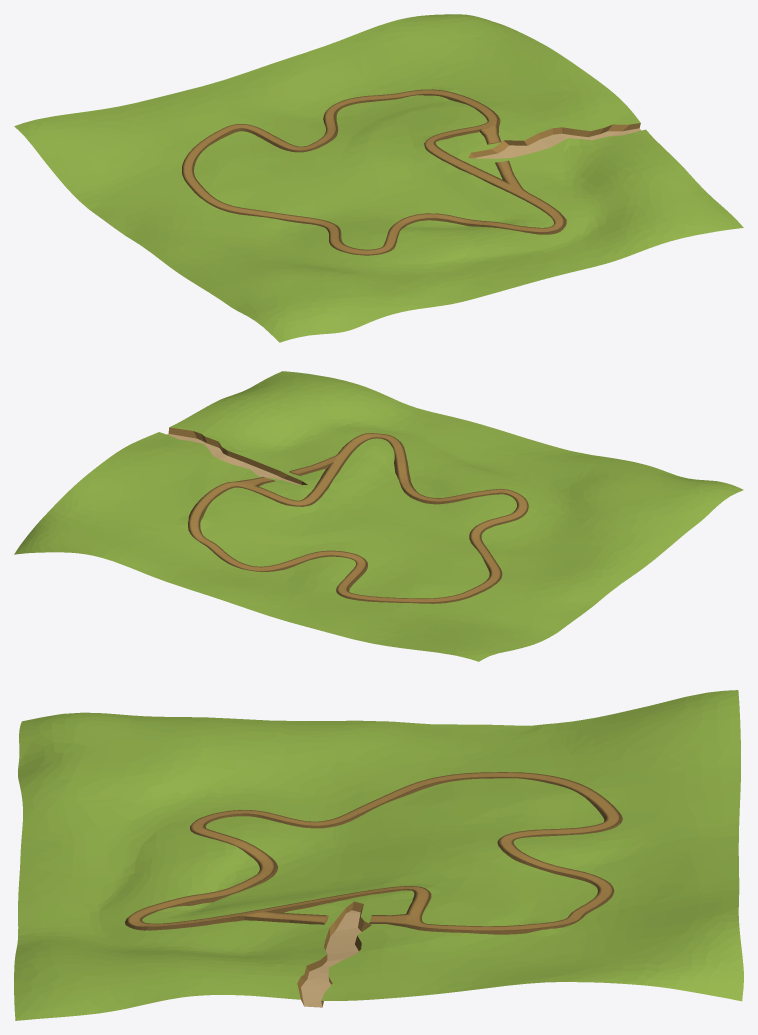
Rendered from terrain w river.fbx.
3 renders of one model, top to bottom at view 1: azimuth 30°, elevation 25°; view 2: azimuth 150°, elevation 25°; view 3: azimuth 270°, elevation 25°, orthographic. The views are drawn at different scales.
Parts seen in each view (by area): view 1: Plane, Plane.002; view 2: Plane, Plane.002; view 3: Plane, Plane.002.
Part boxes in pixels (x1=…): Plane: x1=14, y1=14, x2=743, y2=342; Plane.002: x1=182, y1=89, x2=566, y2=255; Plane: x1=14, y1=371, x2=743, y2=661; Plane.002: x1=188, y1=433, x2=528, y2=603; Plane: x1=14, y1=690, x2=743, y2=1020; Plane.002: x1=125, y1=772, x2=622, y2=934.
Bounding box in the file's own units: 532 × 42.39 × 518.
